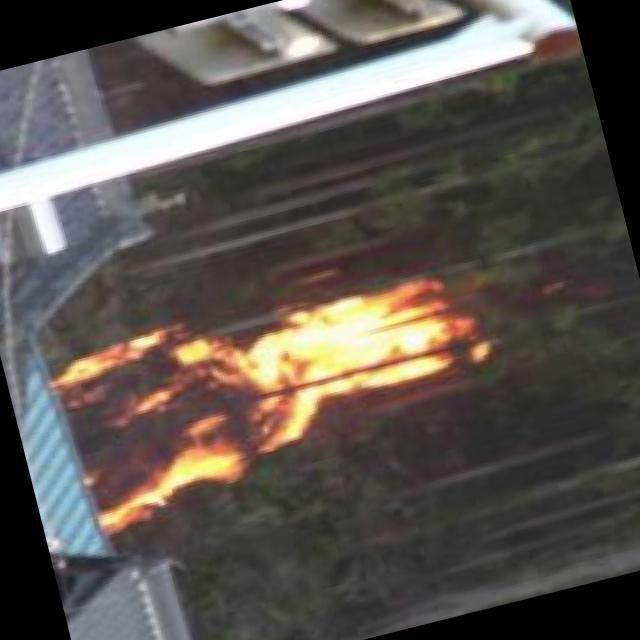Fire: (48, 246, 508, 537)
